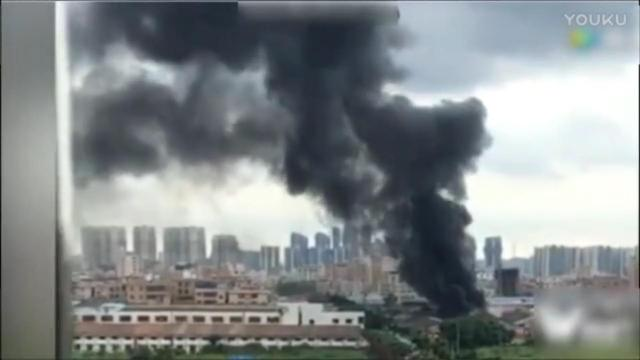smoke: (196, 1, 410, 66), (158, 76, 284, 172), (284, 75, 374, 197), (378, 97, 494, 189), (74, 80, 158, 182), (70, 1, 192, 65), (334, 199, 480, 241), (394, 240, 484, 296), (436, 296, 488, 316)
